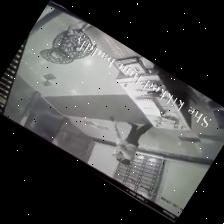person: (118, 122, 151, 164)
